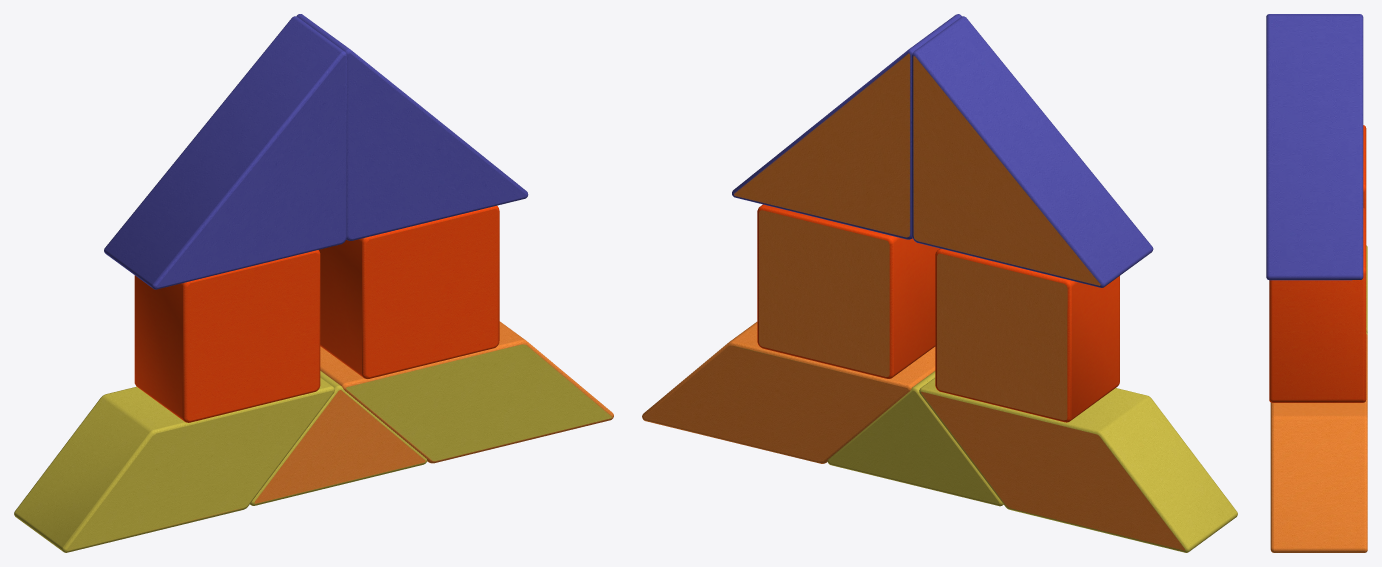
Rendered from unica_detal-matс4d-home-opt.glb.
The picture shows the model from 3 angles, left to right: view 1: azimuth 30°, elevation 25°; view 2: azimuth 150°, elevation 25°; view 3: azimuth 270°, elevation 25°; orthographic projection. The views are drawn at different scales.
Parts seen in each view (by area): view 1: big-treug.1, kub, romb, romb.1, small-treug; view 2: big-treug.1, kub, romb, romb.1, small-treug; view 3: big-treug.1, romb.1, kub, romb.
Boxes of the visible parts, left/top/right/bottom form: big-treug.1: left=104, top=14, right=528, bottom=289; kub: left=134, top=205, right=499, bottom=422; romb: left=14, top=377, right=334, bottom=552; romb.1: left=320, top=321, right=613, bottom=463; small-treug: left=250, top=371, right=427, bottom=505; big-treug.1: left=732, top=14, right=1153, bottom=287; kub: left=757, top=204, right=1119, bottom=422; romb: left=919, top=378, right=1237, bottom=552; romb.1: left=642, top=322, right=935, bottom=463; small-treug: left=827, top=371, right=1003, bottom=506; big-treug.1: left=1266, top=14, right=1363, bottom=280; romb.1: left=1270, top=334, right=1367, bottom=552; kub: left=1269, top=125, right=1366, bottom=402; romb: left=1366, top=245, right=1367, bottom=332.
Size of the model in its own units: 96.4 by 73.04 by 16.22.
Materials: 5 (5 with a texture image).
